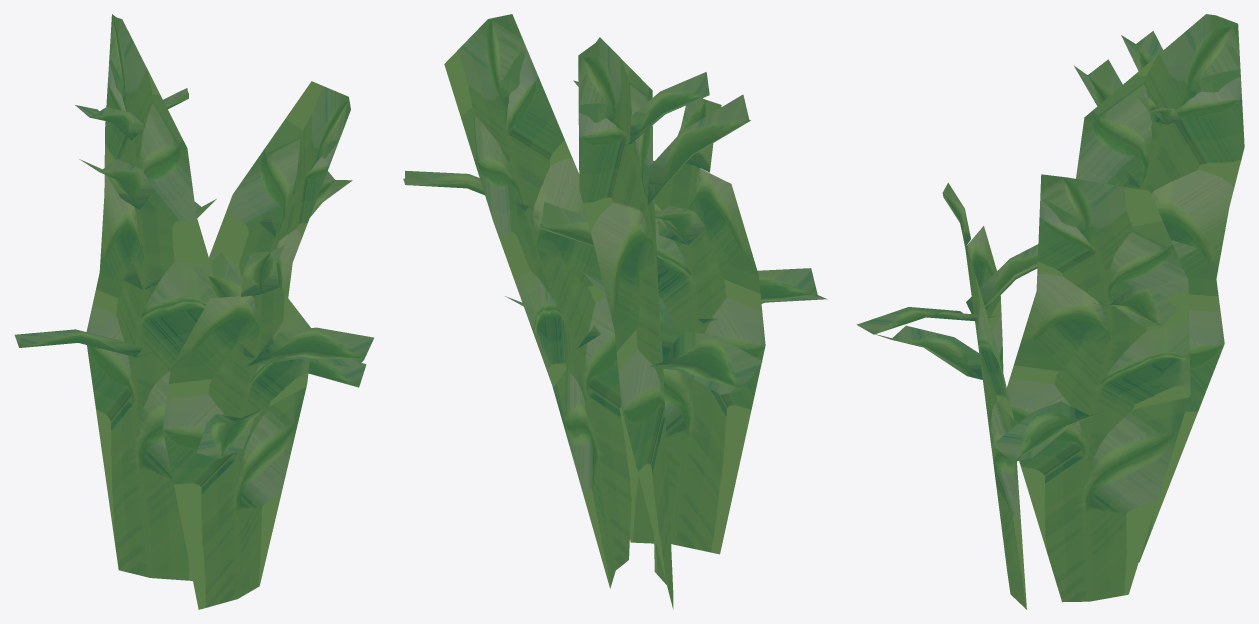
Rendered from SM_Plant_01_02.fbx.
3 renders of one model, left to right at view 1: azimuth 30°, elevation 25°; view 2: azimuth 150°, elevation 25°; view 3: azimuth 270°, elevation 25°, orthographic. The views are drawn at different scales.
Visible parts, largest first — view 1: SM_Plant_01_02_LOD0; view 2: SM_Plant_01_02_LOD0; view 3: SM_Plant_01_02_LOD0.
Boxes of the visible parts, x1,y1,x2,y2 form: SM_Plant_01_02_LOD0: (14, 14, 373, 609); SM_Plant_01_02_LOD0: (403, 14, 827, 609); SM_Plant_01_02_LOD0: (856, 14, 1244, 609).
Size of what is drawn, in the model's own units: 54.54 by 83.63 by 51.93.
